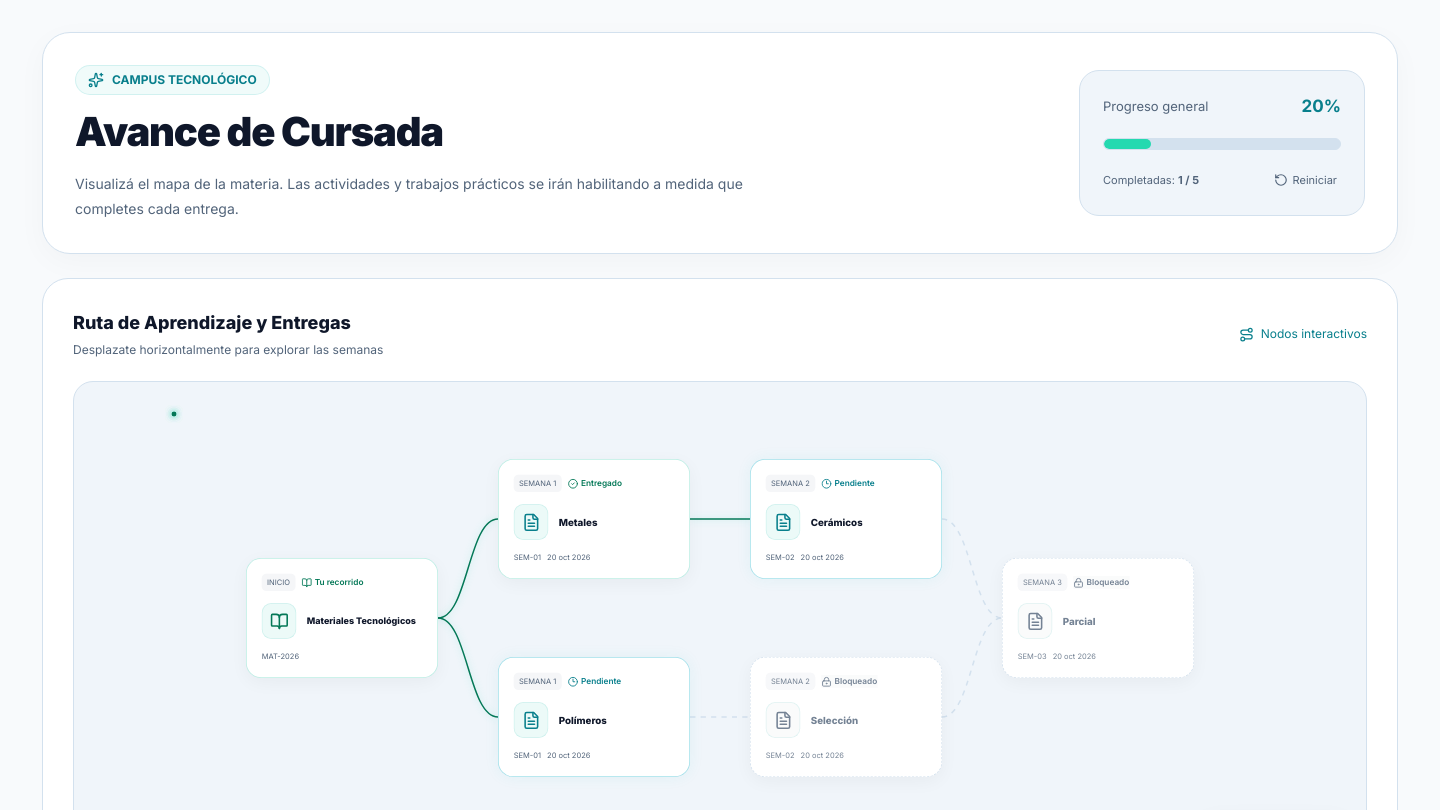
Test: mapa de avance integrado › recupera el progreso guardado tras volver a entrar y confirma el reinicio
Expected: the button with aria-label "Metales — Entregado" is shown, 498,459 -> 690,579
Click the button "Reiniciar" at point(1305, 180), box 1270,168 -> 1341,192
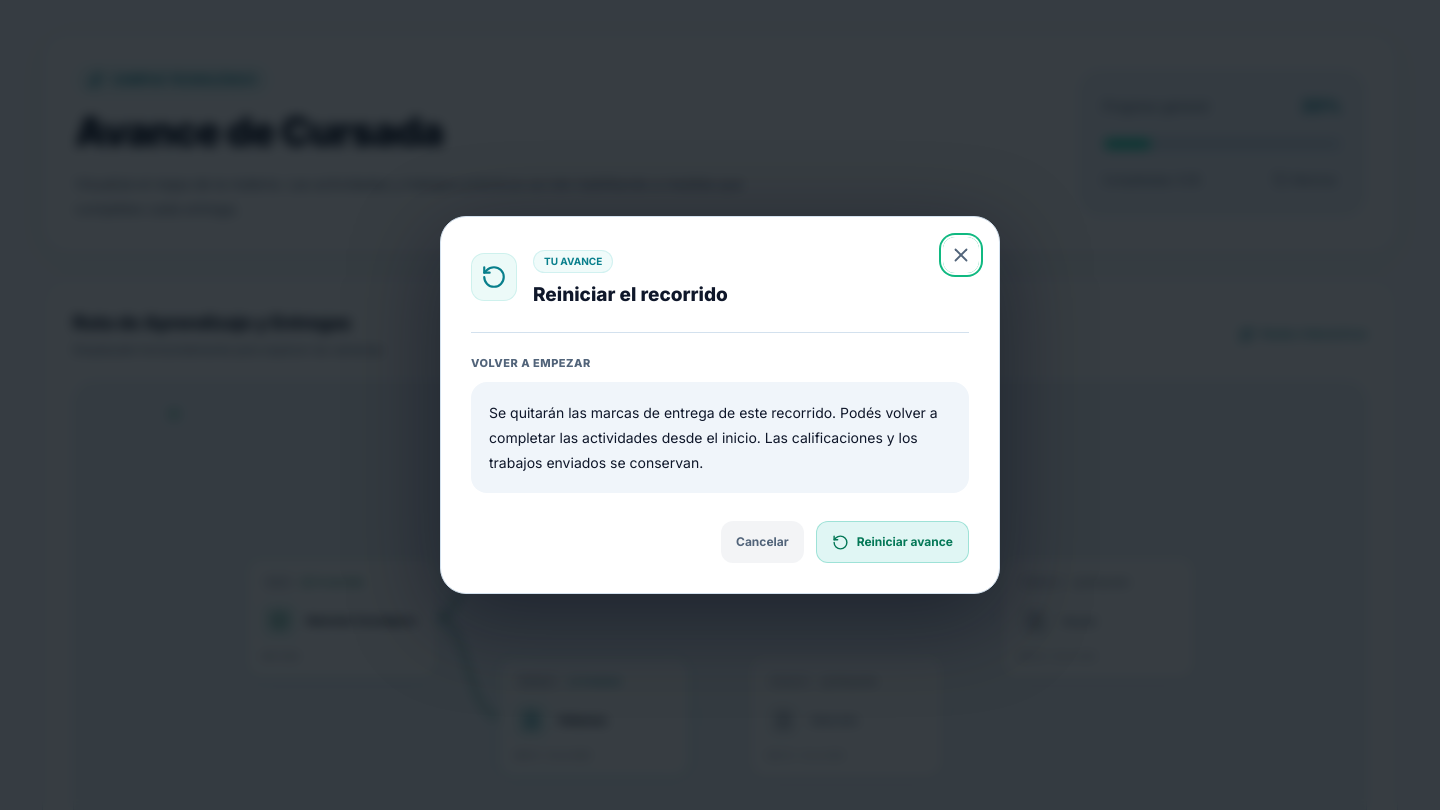
Click the button "Cancelar" at point(762, 542), box 721,521 -> 804,563
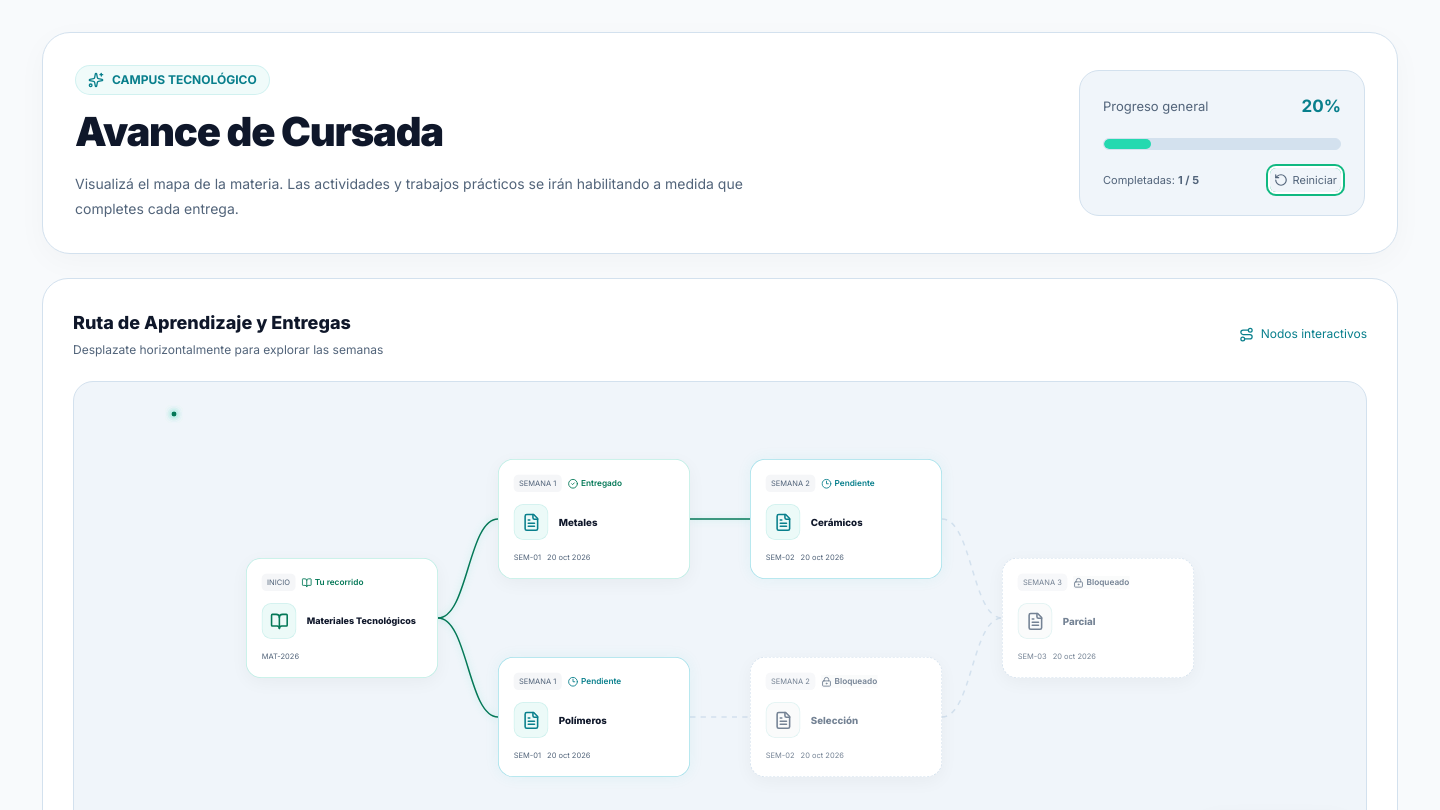
Click the button "Reiniciar" at point(1305, 180), box 1270,168 -> 1341,192
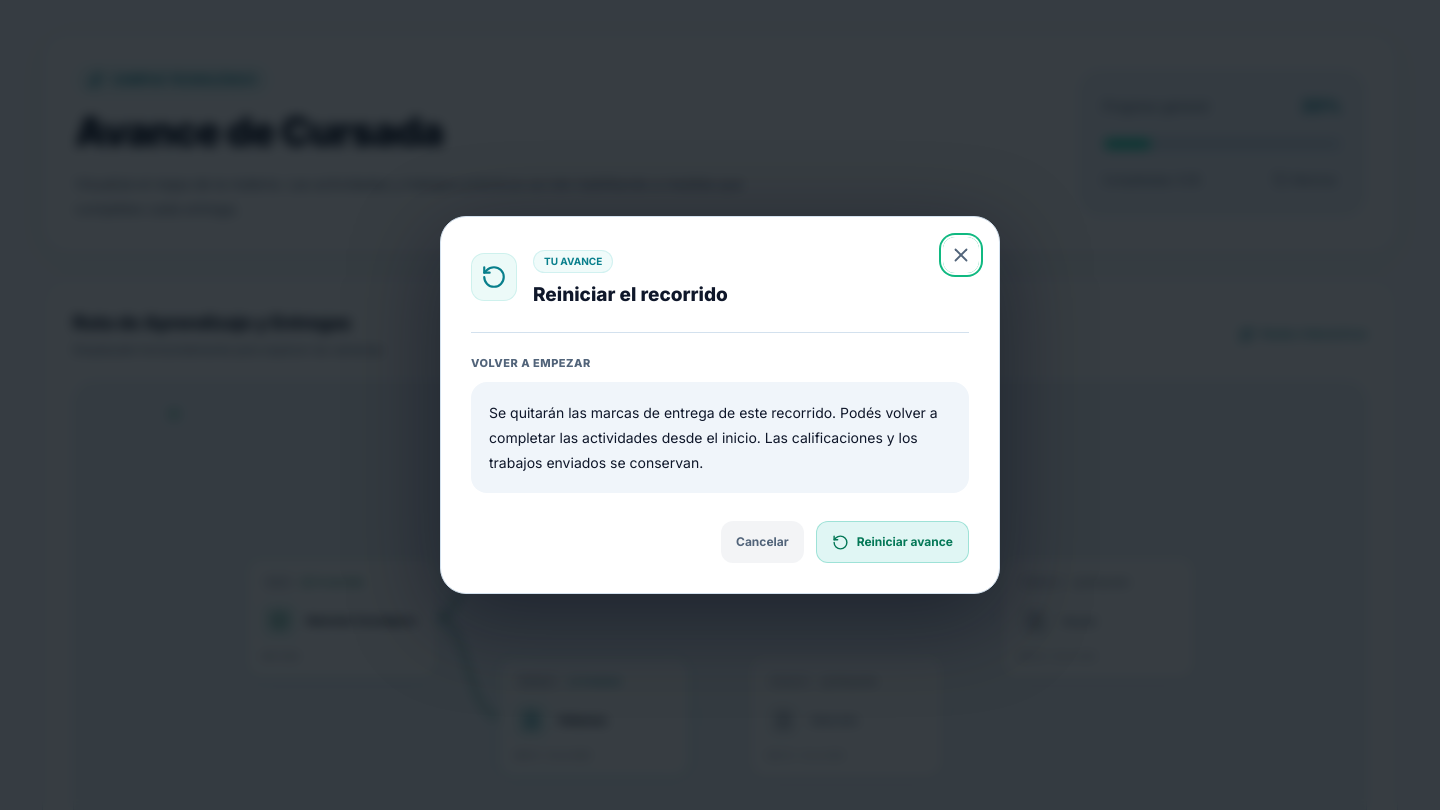
Click the button "Reiniciar avance" at point(892, 542), box 816,521 -> 969,563
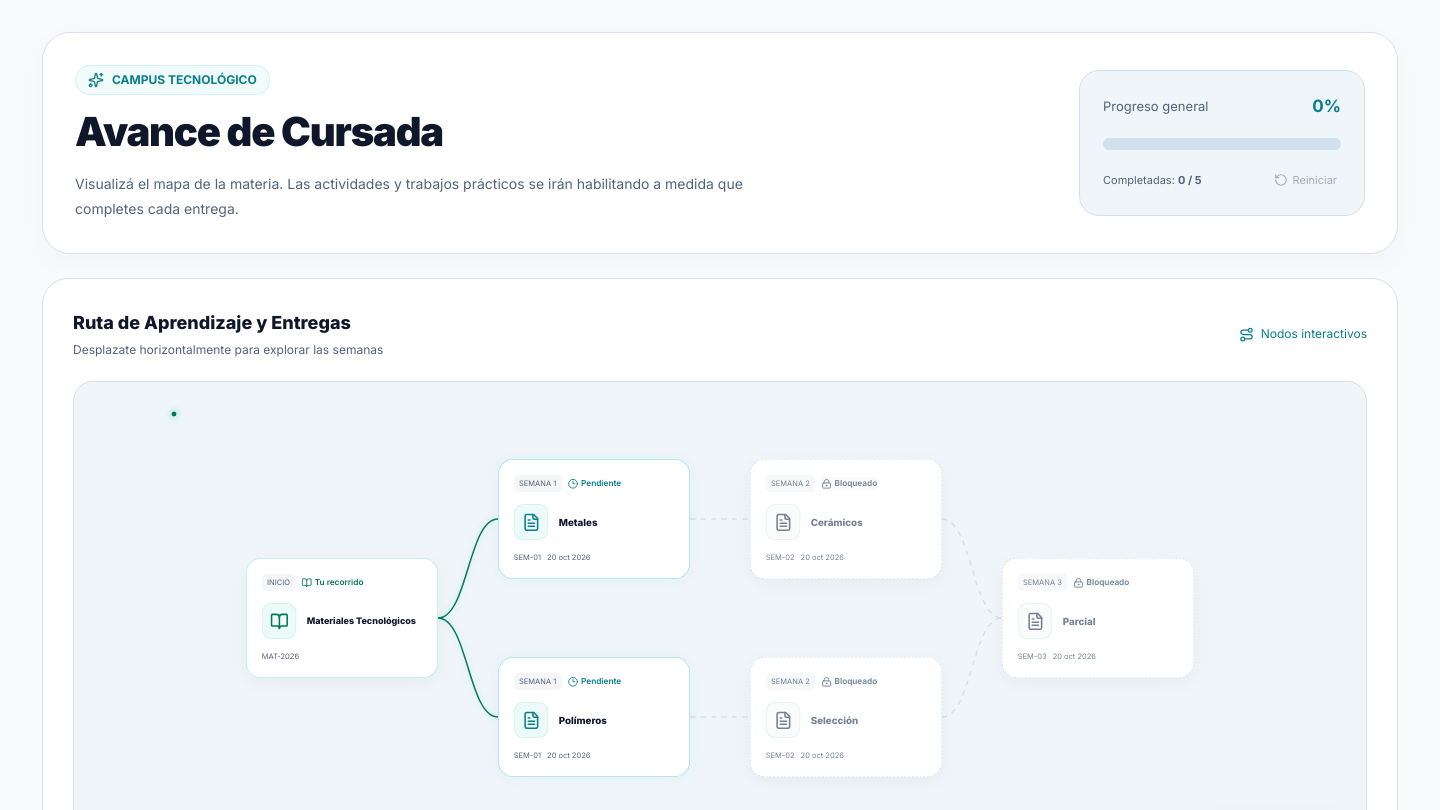
Now the button with aria-label "Metales — Pendiente" is shown, box 498,459 -> 690,579
